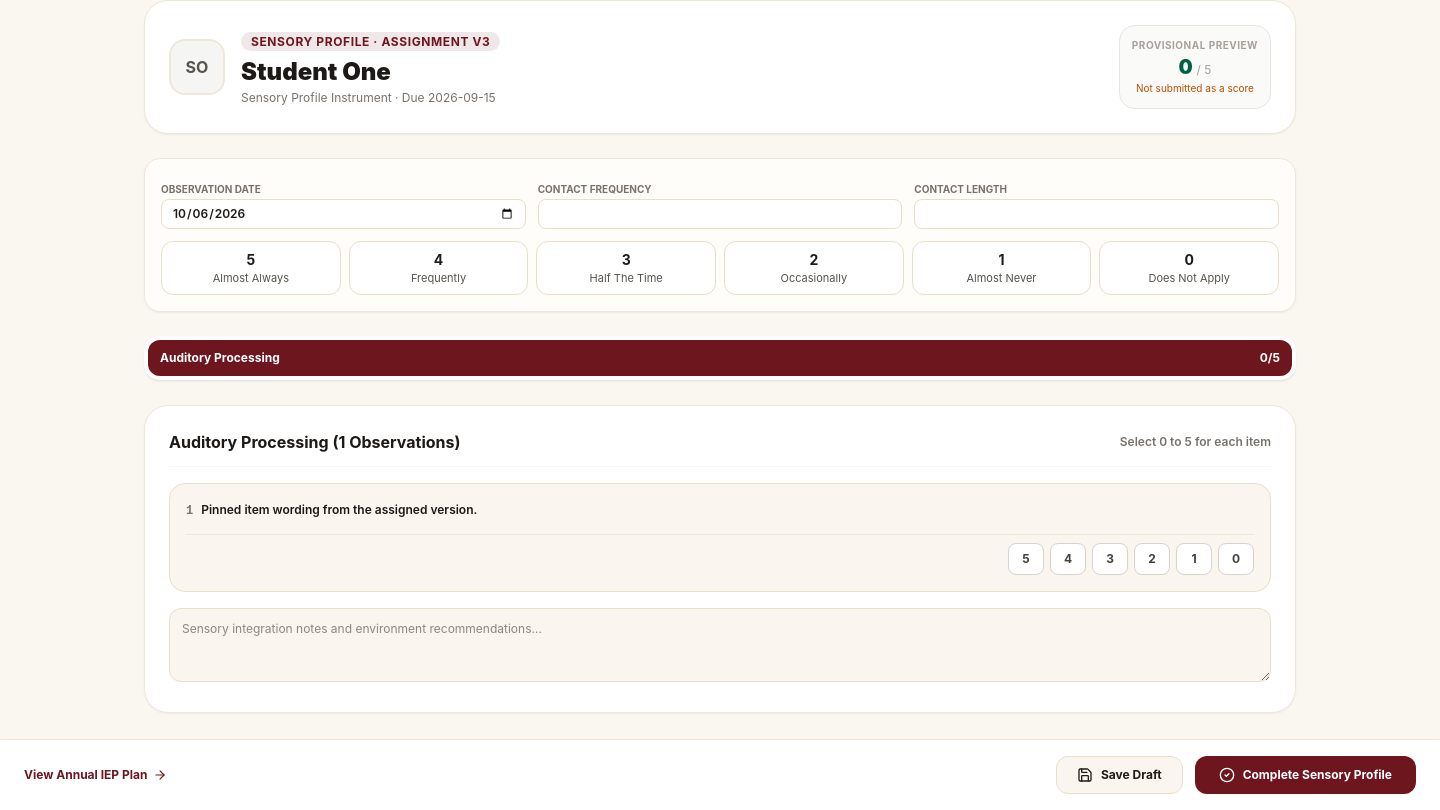
it: SensoryProfileView › renders the pinned definition and retries completion using rating zero
Expected: the text "Pinned item wording from the assigned version." is shown, [201,502,477,517]
Click the button "Complete Sensory Profile" at (1305, 775), box [1195,756,1416,794]
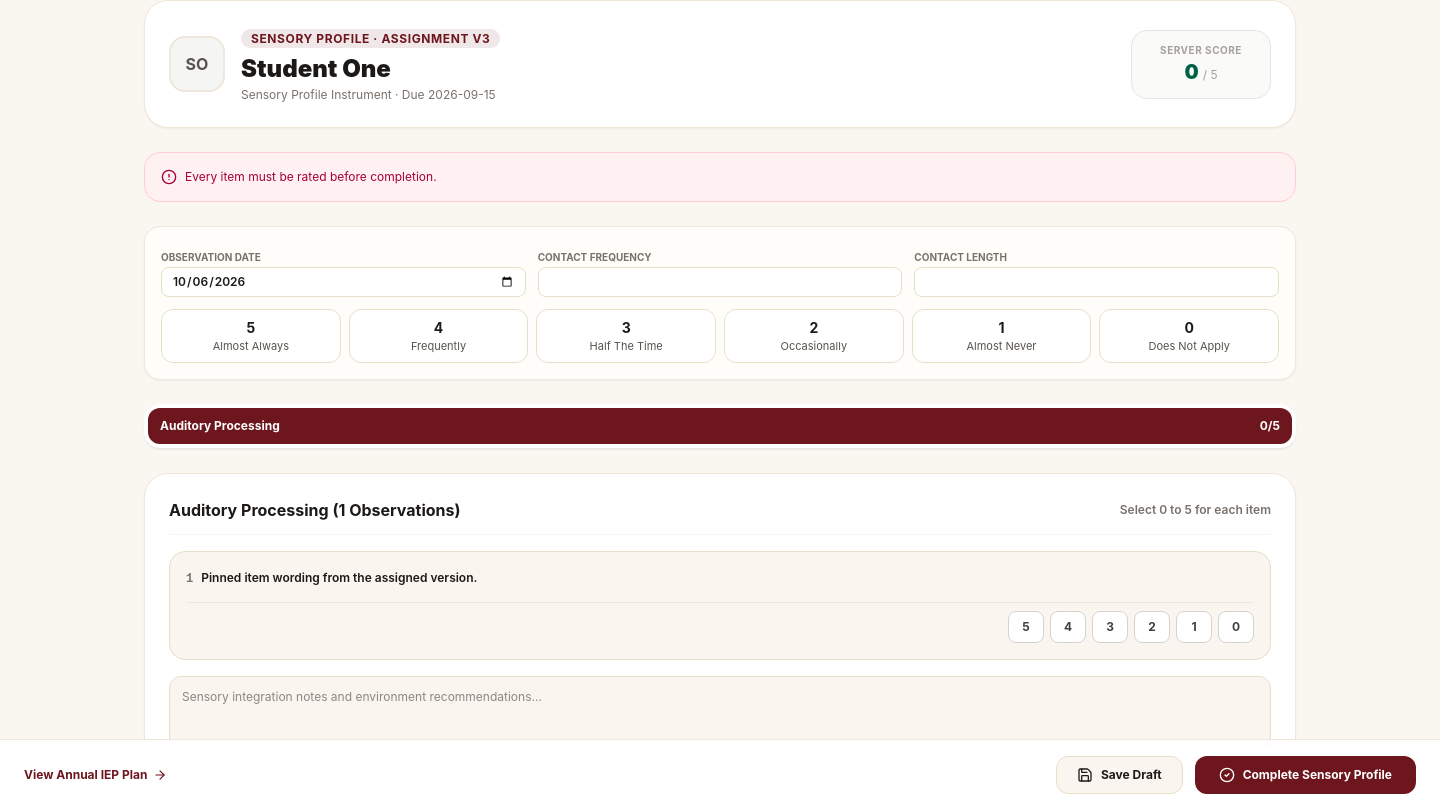
Expected: the text "Every item must be rated before completion." is shown, [144,152,1296,202]
Click the button named "Rate 1 as 0" at (1236, 626), box [1218,610,1254,642]
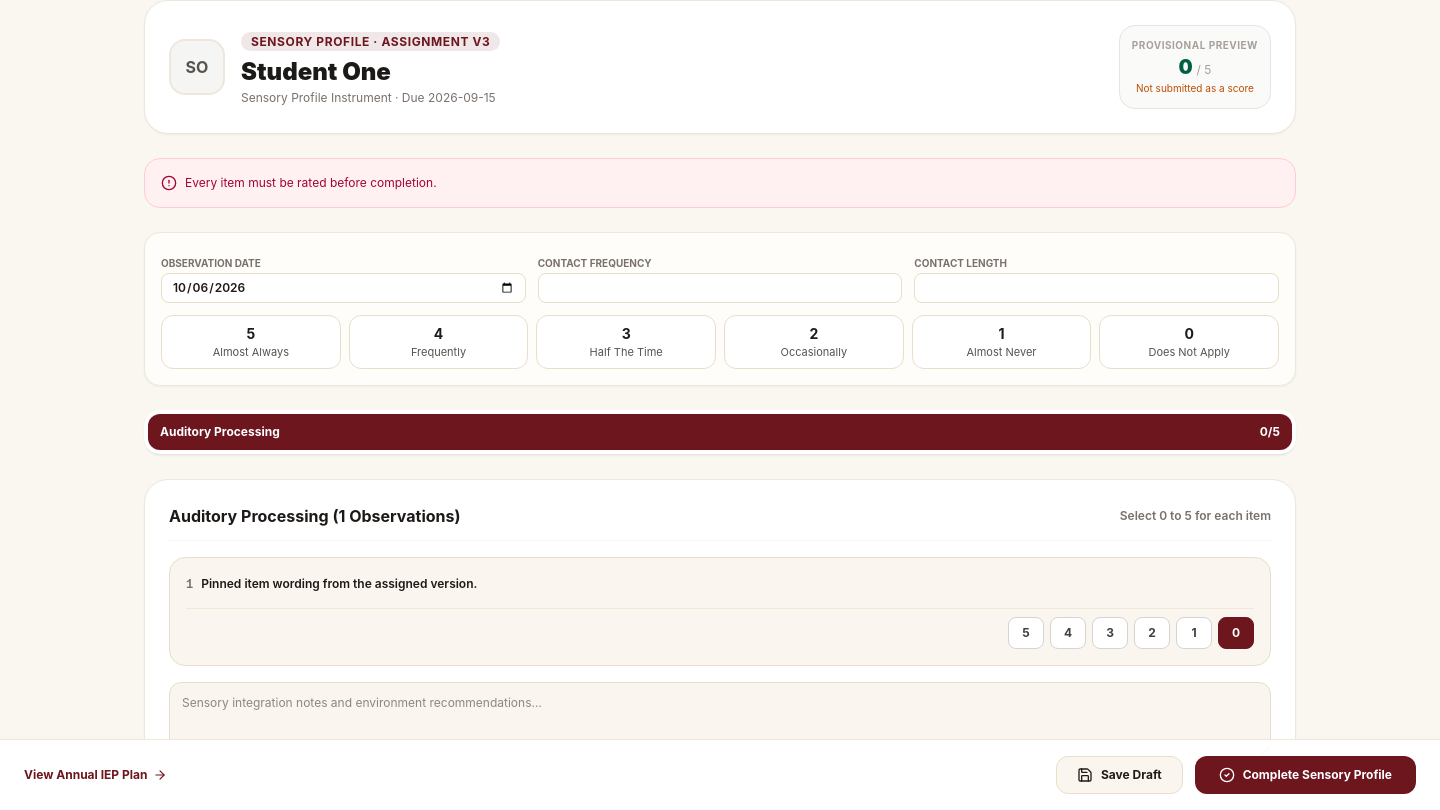
Click the button "Complete Sensory Profile" at (1305, 775), box [1195,756,1416,794]
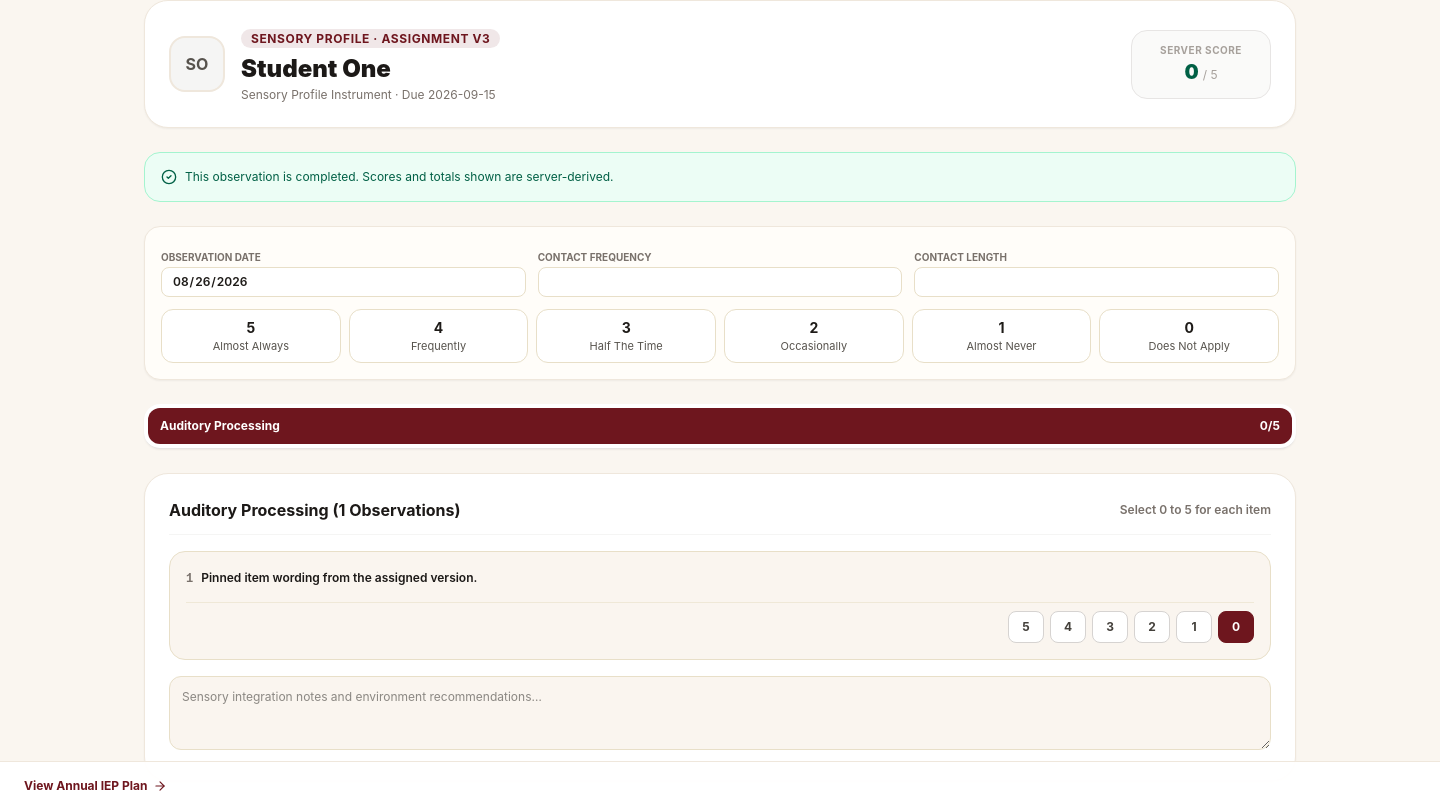
Expected: the text "This observation is completed. Scores and totals shown are server-derived." is shown, [144,152,1296,202]
